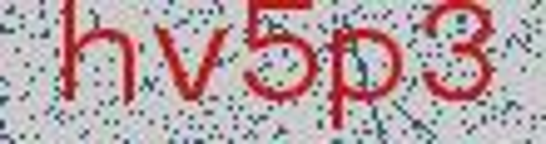3: (415, 2, 499, 118)
5: (236, 1, 321, 101)
h: (44, 1, 143, 113)
p: (326, 22, 406, 139)
v: (149, 17, 230, 107)
